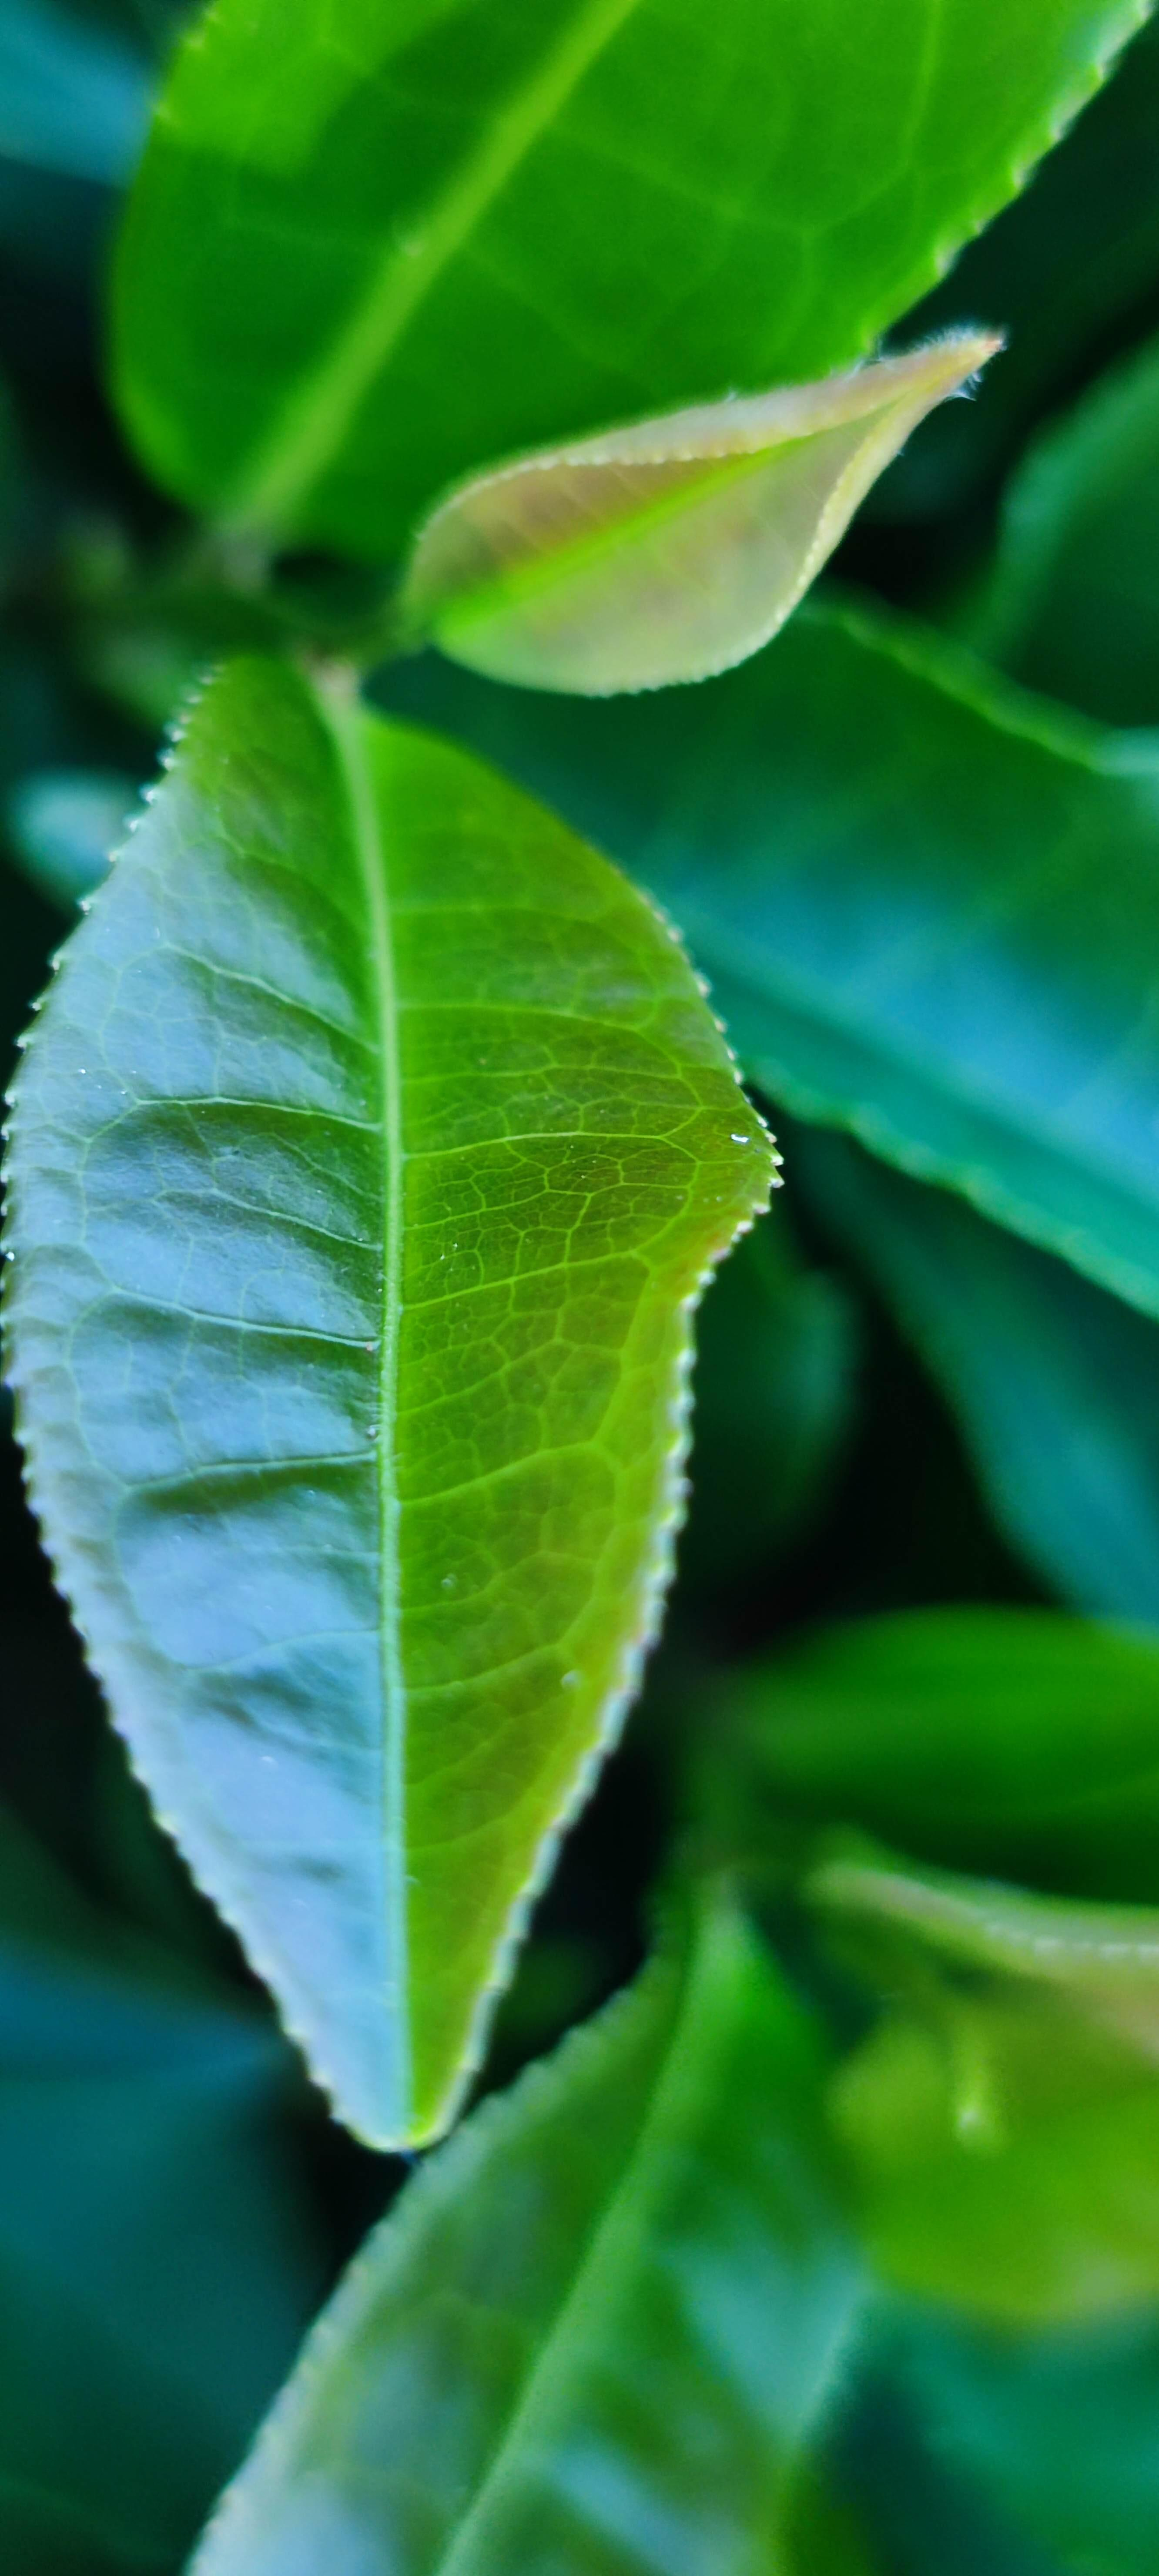healthy: (3, 637, 791, 2157), (90, 3, 1154, 578), (186, 1919, 895, 2568)
tanju_low: (405, 322, 1011, 706)
